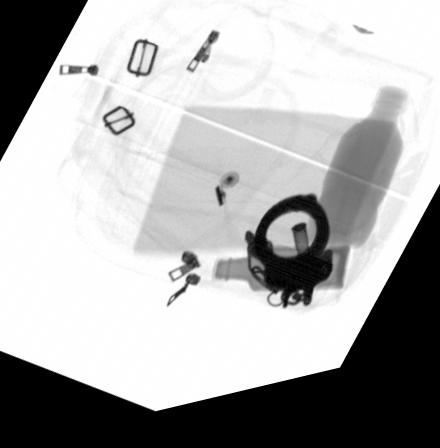Bullet: (291, 237, 313, 292)
HandCuffs: (245, 208, 333, 320)
